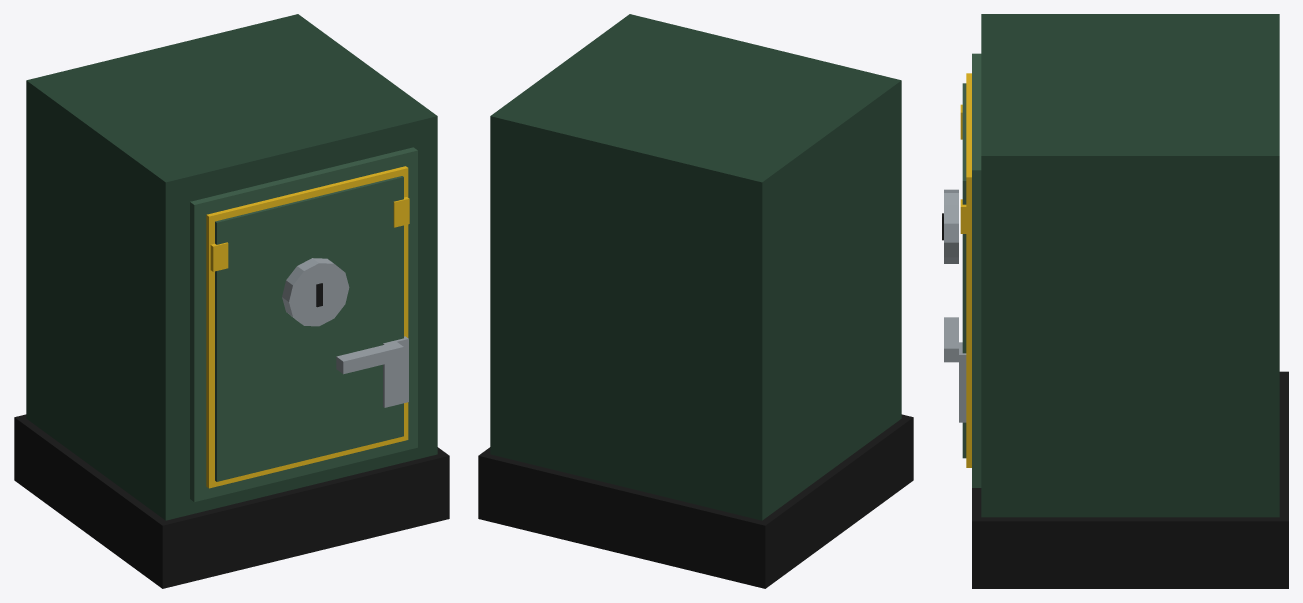
File: Mining_Safe.fbx
The picture shows the model from 3 angles, left to right: view 1: azimuth 30°, elevation 25°; view 2: azimuth 150°, elevation 25°; view 3: azimuth 270°, elevation 25°; orthographic projection. The views are drawn at different scales.
Visible parts, largest first — view 1: Mining_Safe; view 2: Mining_Safe; view 3: Mining_Safe.
Boxes of the visible parts, left/top/right/bottom form: Mining_Safe: left=14, top=14, right=449, bottom=588; Mining_Safe: left=478, top=14, right=913, bottom=588; Mining_Safe: left=942, top=14, right=1288, bottom=588.
Size of the model in its own units: 0.95 by 1.27 by 0.93.
